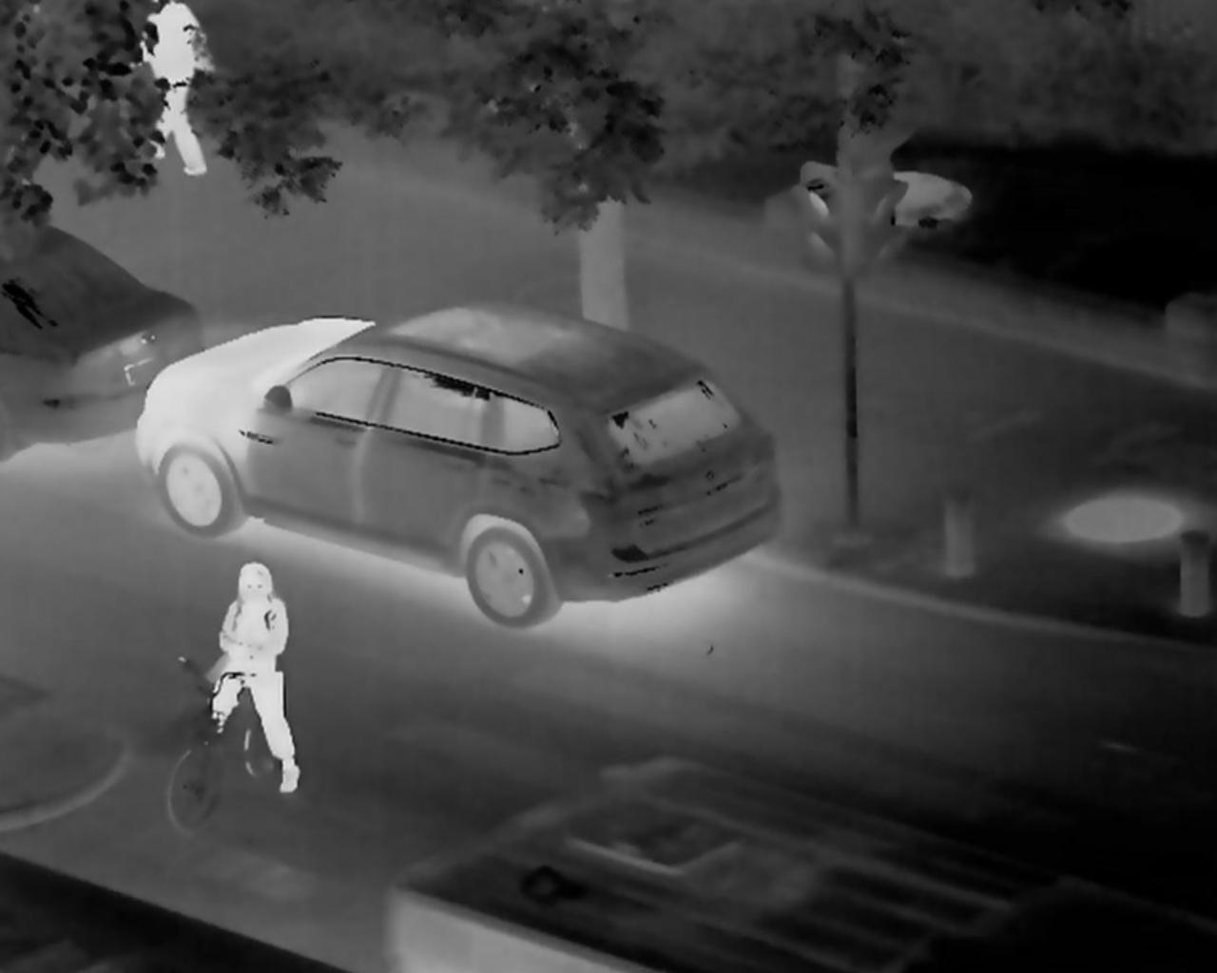person: (202, 549, 302, 792)
